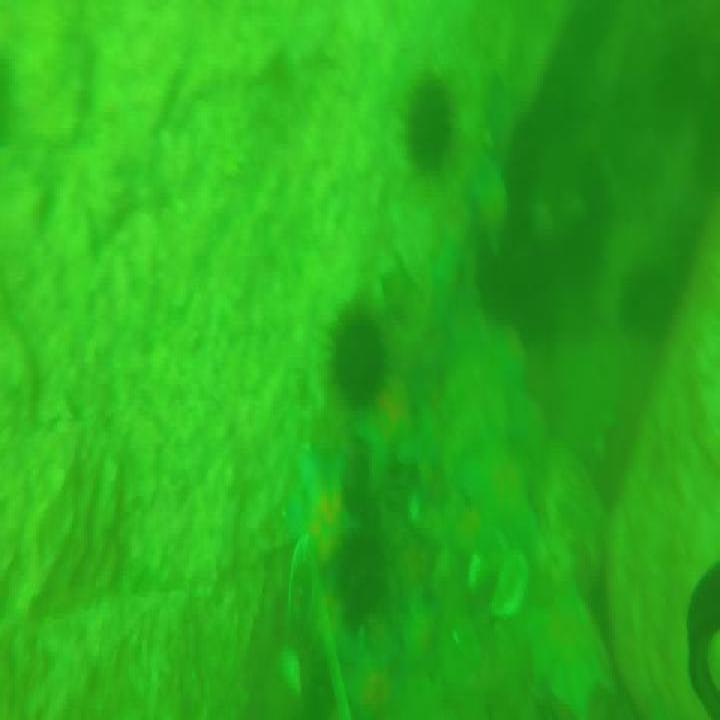echinus: (274, 457, 360, 576), (323, 302, 389, 411), (333, 532, 393, 628), (404, 74, 455, 172), (333, 645, 399, 720)
